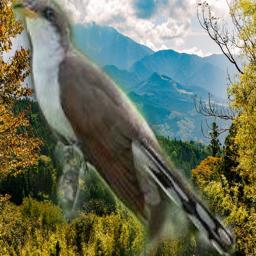Cuckoo: (13, 0, 236, 256)
